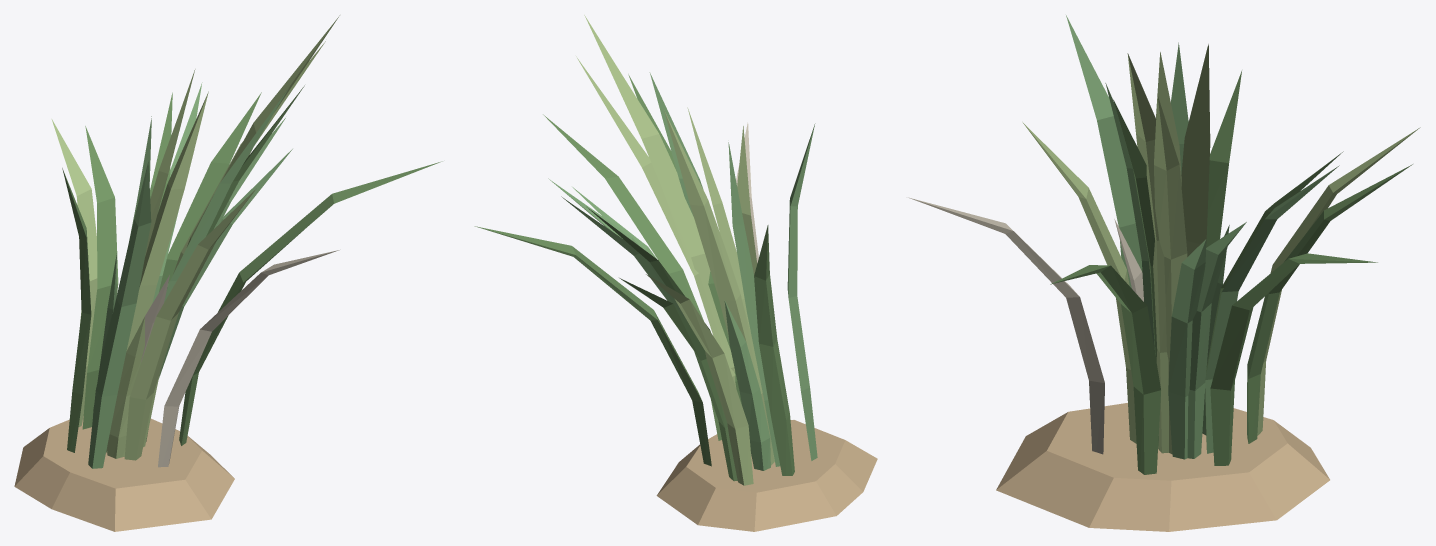
Rendered from grass.glb.
3 views of the same model, side by side, from view 1: azimuth 30°, elevation 25°; view 2: azimuth 150°, elevation 25°; view 3: azimuth 270°, elevation 25° (orthographic). The views are drawn at different scales.
Visible parts, largest first — view 1: grass; view 2: grass; view 3: grass.
Boxes of the visible parts, x1=… form: grass: x1=14, y1=15, x2=442, y2=531; grass: x1=474, y1=15, x2=877, y2=531; grass: x1=908, y1=15, x2=1420, y2=531.
Size of the model in its own units: 0.9065 by 1 by 0.846.
